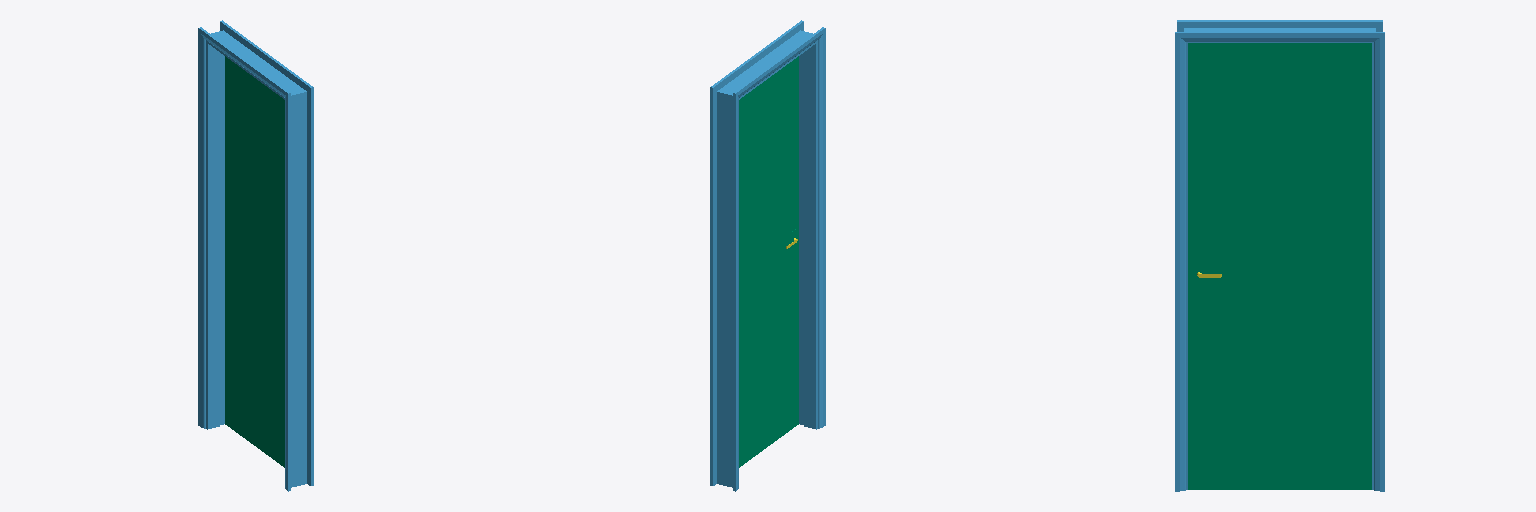
The robot description file, URDF, robot "partnet_c721d74df984ce23ac3de8d2d6e98e61":
<?xml version="1.0" ?>
<robot name="partnet_c721d74df984ce23ac3de8d2d6e98e61">
	<link name="base"/>
	<link name="link_0">
		<visual name="outside_frame-1">
			<origin xyz="0 0 0"/>
			<geometry>
				<mesh filename="textured_objs/original-13.obj"/>
			</geometry>
		</visual>
		<collision>
			<origin xyz="0 0 0"/>
			<geometry>
				<mesh filename="textured_objs/original-13.obj"/>
			</geometry>
		</collision>
	</link>
	<joint name="joint_0" type="fixed">
		<origin rpy="1.570796326794897 0 -1.570796326794897" xyz="0 0 0"/>
		<child link="link_0"/>
		<parent link="base"/>
	</joint>
	<link name="link_1">
		<visual name="surface_board-10">
			<origin xyz="0.34140068467568707 -0.8378739999999993 -0.01673649490104201"/>
			<geometry>
				<mesh filename="textured_objs/original-12.obj"/>
			</geometry>
		</visual>
		<visual name="fixed_part-8">
			<origin xyz="0.34140068467568707 -0.8378739999999993 -0.01673649490104201"/>
			<geometry>
				<mesh filename="textured_objs/original-3.obj"/>
			</geometry>
		</visual>
		<visual name="fixed_part-6">
			<origin xyz="0.34140068467568707 -0.8378739999999993 -0.01673649490104201"/>
			<geometry>
				<mesh filename="textured_objs/original-8.obj"/>
			</geometry>
		</visual>
		<collision>
			<origin xyz="0.34140068467568707 -0.8378739999999993 -0.01673649490104201"/>
			<geometry>
				<mesh filename="textured_objs/original-12.obj"/>
			</geometry>
		</collision>
		<collision>
			<origin xyz="0.34140068467568707 -0.8378739999999993 -0.01673649490104201"/>
			<geometry>
				<mesh filename="textured_objs/original-3.obj"/>
			</geometry>
		</collision>
		<collision>
			<origin xyz="0.34140068467568707 -0.8378739999999993 -0.01673649490104201"/>
			<geometry>
				<mesh filename="textured_objs/original-8.obj"/>
			</geometry>
		</collision>
	</link>
	<joint name="joint_1" type="revolute">
		<origin xyz="-0.34140068467568707 0.8378739999999993 0.01673649490104201"/>
		<axis xyz="0 -1 0"/>
		<child link="link_1"/>
		<parent link="link_0"/>
		<limit lower="0.0" upper="1.5707963267948966"/>
	</joint>
	<link name="link_2">
		<visual name="movable_part-9">
			<origin xyz="-0.2881077343454585 0.09902238255745689 0.0026730000000000365"/>
			<geometry>
				<mesh filename="textured_objs/original-5.obj"/>
			</geometry>
		</visual>
		<visual name="movable_part-9">
			<origin xyz="-0.2881077343454585 0.09902238255745689 0.0026730000000000365"/>
			<geometry>
				<mesh filename="textured_objs/original-6.obj"/>
			</geometry>
		</visual>
		<visual name="movable_part-7">
			<origin xyz="-0.2881077343454585 0.09902238255745689 0.0026730000000000365"/>
			<geometry>
				<mesh filename="textured_objs/original-10.obj"/>
			</geometry>
		</visual>
		<visual name="movable_part-7">
			<origin xyz="-0.2881077343454585 0.09902238255745689 0.0026730000000000365"/>
			<geometry>
				<mesh filename="textured_objs/original-11.obj"/>
			</geometry>
		</visual>
		<collision>
			<origin xyz="-0.2881077343454585 0.09902238255745689 0.0026730000000000365"/>
			<geometry>
				<mesh filename="textured_objs/original-5.obj"/>
			</geometry>
		</collision>
		<collision>
			<origin xyz="-0.2881077343454585 0.09902238255745689 0.0026730000000000365"/>
			<geometry>
				<mesh filename="textured_objs/original-6.obj"/>
			</geometry>
		</collision>
		<collision>
			<origin xyz="-0.2881077343454585 0.09902238255745689 0.0026730000000000365"/>
			<geometry>
				<mesh filename="textured_objs/original-10.obj"/>
			</geometry>
		</collision>
		<collision>
			<origin xyz="-0.2881077343454585 0.09902238255745689 0.0026730000000000365"/>
			<geometry>
				<mesh filename="textured_objs/original-11.obj"/>
			</geometry>
		</collision>
	</link>
	<joint name="joint_2" type="revolute">
		<origin xyz="0.6295084190211455 -0.9368963825574562 -0.019409494901042046"/>
		<axis xyz="0 0 1"/>
		<child link="link_2"/>
		<parent link="link_1"/>
		<limit lower="-0.0" upper="1.5707963267948966"/>
	</joint>
</robot>

--- Render facts (derived) ---
Views: 3 orthographic renders of the robot side by side, from view 1: azimuth 30°, elevation 25°; view 2: azimuth 150°, elevation 25°; view 3: azimuth 270°, elevation 25°.
Model partnet_c721d74df984ce23ac3de8d2d6e98e61 with 4 links and 3 joints (2 revolute, 1 fixed), rooted at base, posed all joints at 0.
Visible links, largest first — view 1: link_0, link_1; view 2: link_0, link_1; view 3: link_1, link_0.
Link boxes in pixels (x1,y1,x2,y2): link_0: (198,20,313,491); link_1: (225,56,284,467); link_0: (710,20,825,491); link_1: (739,56,798,467); link_1: (1188,43,1371,489); link_0: (1175,20,1384,491).
Size in the robot's own frame: 0.1196 by 0.7542 by 1.82 metres.
8 mesh visuals loaded from 8 distinct referenced files (8 OBJ).
